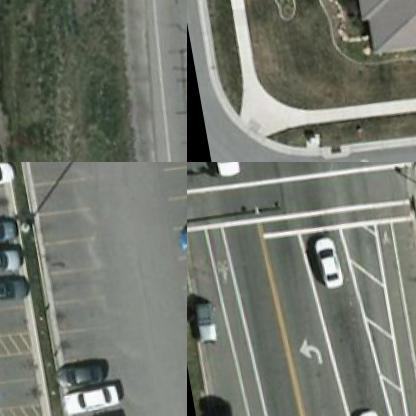car: (304, 226, 345, 289), (60, 376, 118, 410), (50, 352, 102, 386), (187, 303, 226, 344), (0, 265, 32, 309), (199, 388, 242, 415), (0, 233, 23, 277), (0, 204, 18, 248), (170, 211, 186, 246), (205, 162, 244, 176), (349, 402, 390, 415), (63, 406, 122, 415)
